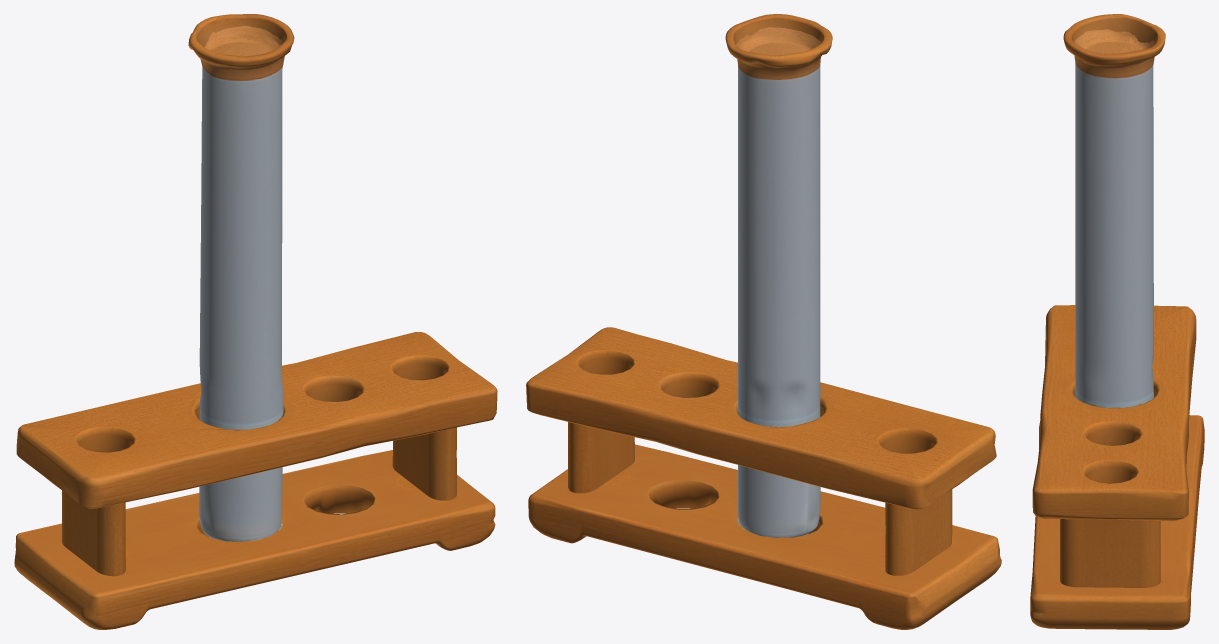
The model's file is tuberack.glb.
3 renders of one model, left to right at view 1: azimuth 30°, elevation 25°; view 2: azimuth 150°, elevation 25°; view 3: azimuth 270°, elevation 25°, orthographic. The views are drawn at different scales.
Parts seen in each view (by area): view 1: tripo_node_486ae0c1-9fa4-41b7-9b1b-ef53eb123752; view 2: tripo_node_486ae0c1-9fa4-41b7-9b1b-ef53eb123752; view 3: tripo_node_486ae0c1-9fa4-41b7-9b1b-ef53eb123752.
Boxes of the visible parts, x1,y1,x2,y2 form: tripo_node_486ae0c1-9fa4-41b7-9b1b-ef53eb123752: [14, 14, 497, 629]; tripo_node_486ae0c1-9fa4-41b7-9b1b-ef53eb123752: [526, 14, 1001, 629]; tripo_node_486ae0c1-9fa4-41b7-9b1b-ef53eb123752: [1030, 14, 1204, 629].
Bounding box in the file's own units: 0.8173 × 1 × 0.3161.
Materials: 1 (1 with a texture image).
